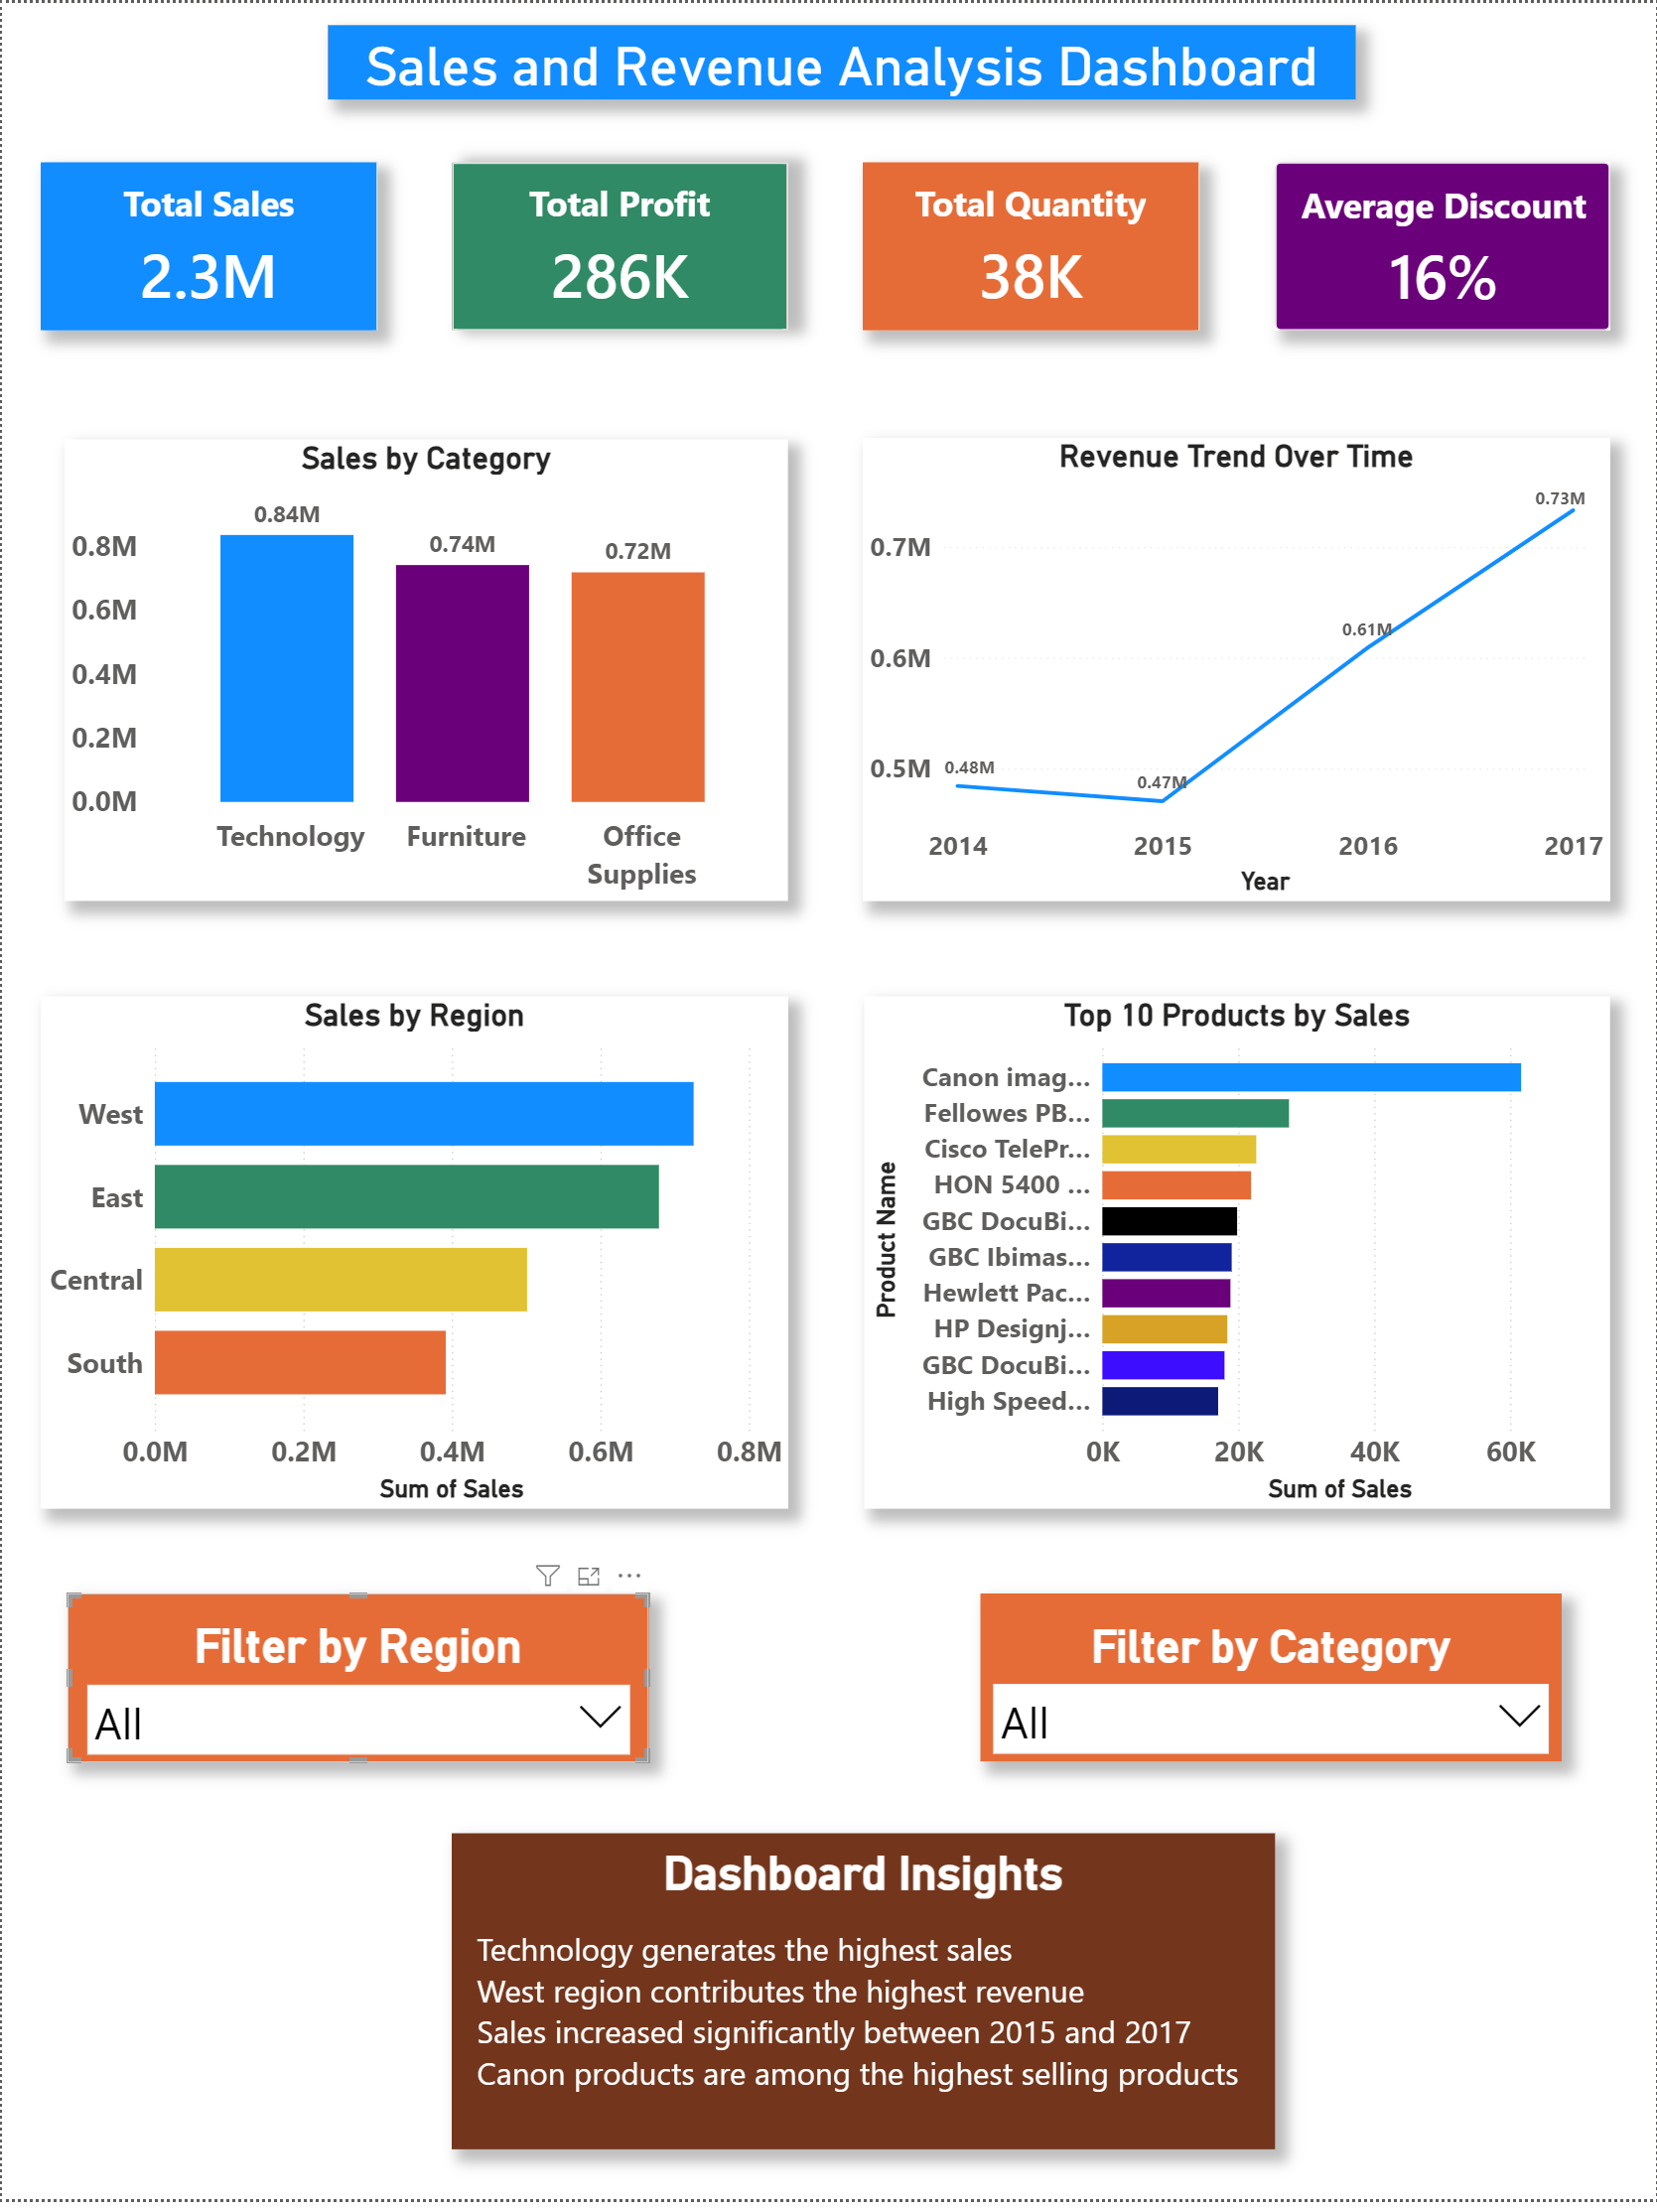

This screenshot's page, from the dashboard's own definition file:
{"tool":"powerbi","page":{"name":"Page 1","canvas":[1280,1700],"ordinal":0},"visuals":[{"type":"cardVisual","title":"Total Sales","fields":{"Data":["Sum(Sales_Data.Sales)"]},"box":[30,123.4,260.5,130.3],"z":0},{"type":"cardVisual","fields":{"Data":["Sum(Sales_Data.Profit)"]},"box":[348.1,123.4,260.5,130.3],"z":1000},{"type":"cardVisual","fields":{"Data":["Sum(Sales_Data.Quantity)"]},"box":[666.3,123.4,260.5,130.3],"z":2000},{"type":"cardVisual","fields":{"Data":["Avg(Sales_Data.Discount)"]},"box":[985.6,123.4,259.4,130.3],"z":3000},{"type":"textbox","title":"Sales and Revenue Analysis Dashboard","box":[252.2,17.3,795.1,57.1],"z":4000},{"type":"clusteredColumnChart","title":"Sales by Category","fields":{"Category":["Sales_Data.Category"],"Y":["Sum(Sales_Data.Sales)"]},"box":[48.4,337.8,560.3,357.4],"z":5000},{"type":"lineChart","title":"Revenue Trend Over Time","fields":{"Category":["Sales_Data.Order Date.Variation.Date Hierarchy.Year","Sales_Data.Order Date.Variation.Date Hierarchy.Quarter","Sales_Data.Order Date.Variation.Date Hierarchy.Month","Sales_Data.Order Date.Variation.Date Hierarchy.Day"],"Y":["Sum(Sales_Data.Sales)"]},"box":[666.3,336.6,578.7,358.5],"z":6000},{"type":"clusteredBarChart","title":"Sales by Region","fields":{"Category":["Sales_Data.Region"],"Y":["Sum(Sales_Data.Sales)"]},"box":[30.4,769.3,579,396.6],"z":7000},{"type":"clusteredBarChart","title":"Top 10 Products by Sales","fields":{"Category":["Sales_Data.Product Name"],"Y":["Sum(Sales_Data.Sales)"]},"box":[666.9,769.3,577.4,396.6],"z":8000},{"type":"slicer","title":"Filter by Region","fields":{"Values":["Sales_Data.Region"]},"box":[94.5,1232.4,449.6,130.3],"z":9000},{"type":"slicer","title":"Filter by Category","fields":{"Values":["Sales_Data.Category"]},"box":[730.9,1231.2,450.7,130.3],"z":10000},{"type":"textbox","title":"Dashboard Insights","box":[348.8,1417.1,697.6,244],"z":11000}]}

Visuals, with their boxes in screenshot pixels (x1, y1, x2, y2), scaled from the page's 1280x1700 canvas onto the 1657x2212 screenshot:
"Total Sales" cardVisual: [x1=39, y1=161, x2=376, y2=330]
cardVisual - Sum(Sales_Data.Profit): [x1=451, y1=161, x2=788, y2=330]
cardVisual - Sum(Sales_Data.Quantity): [x1=863, y1=161, x2=1199, y2=330]
cardVisual - Avg(Sales_Data.Discount): [x1=1276, y1=161, x2=1611, y2=330]
"Sales and Revenue Analysis Dashboard" textbox: [x1=327, y1=23, x2=1356, y2=97]
"Sales by Category" clusteredColumnChart: [x1=63, y1=440, x2=788, y2=904]
"Revenue Trend Over Time" lineChart: [x1=863, y1=438, x2=1611, y2=904]
"Sales by Region" clusteredBarChart: [x1=40, y1=1001, x2=789, y2=1517]
"Top 10 Products by Sales" clusteredBarChart: [x1=864, y1=1001, x2=1610, y2=1517]
"Filter by Region" slicer: [x1=122, y1=1603, x2=704, y2=1773]
"Filter by Category" slicer: [x1=946, y1=1602, x2=1530, y2=1771]
"Dashboard Insights" textbox: [x1=452, y1=1844, x2=1354, y2=2161]
